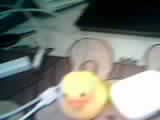duck: (42, 56, 114, 115)
